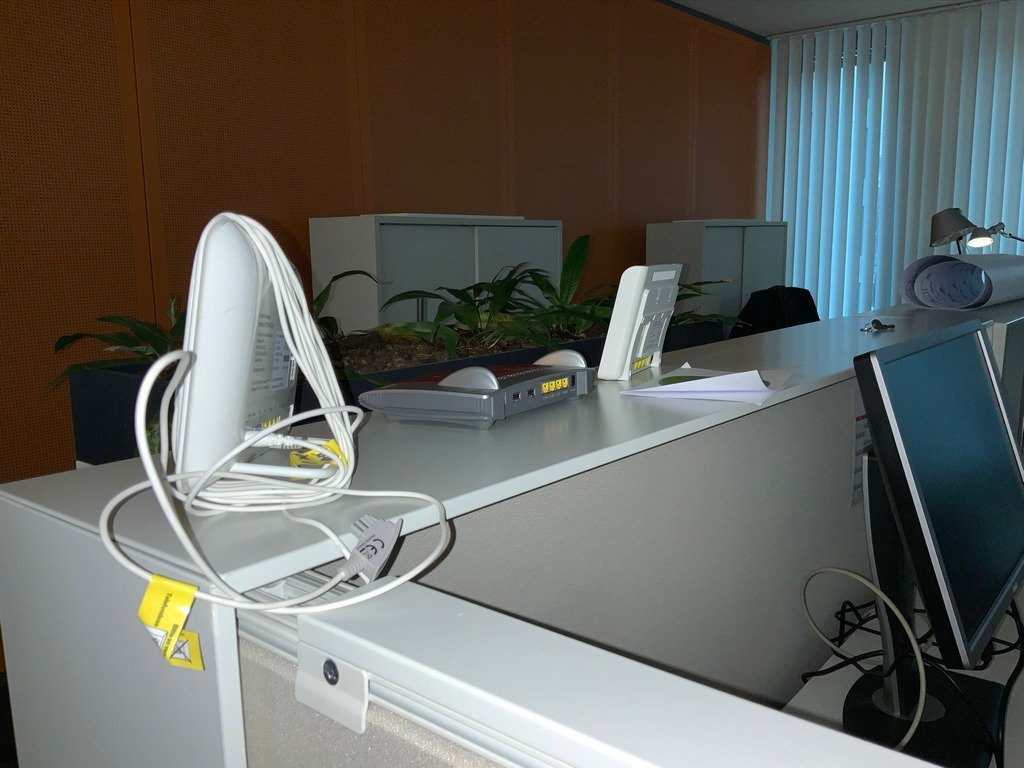Router2: (593, 264, 685, 384)
router: (147, 218, 311, 519)
router3: (352, 350, 595, 425)
